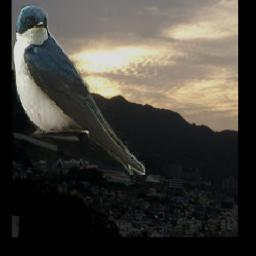Swallow: (12, 4, 146, 176)
